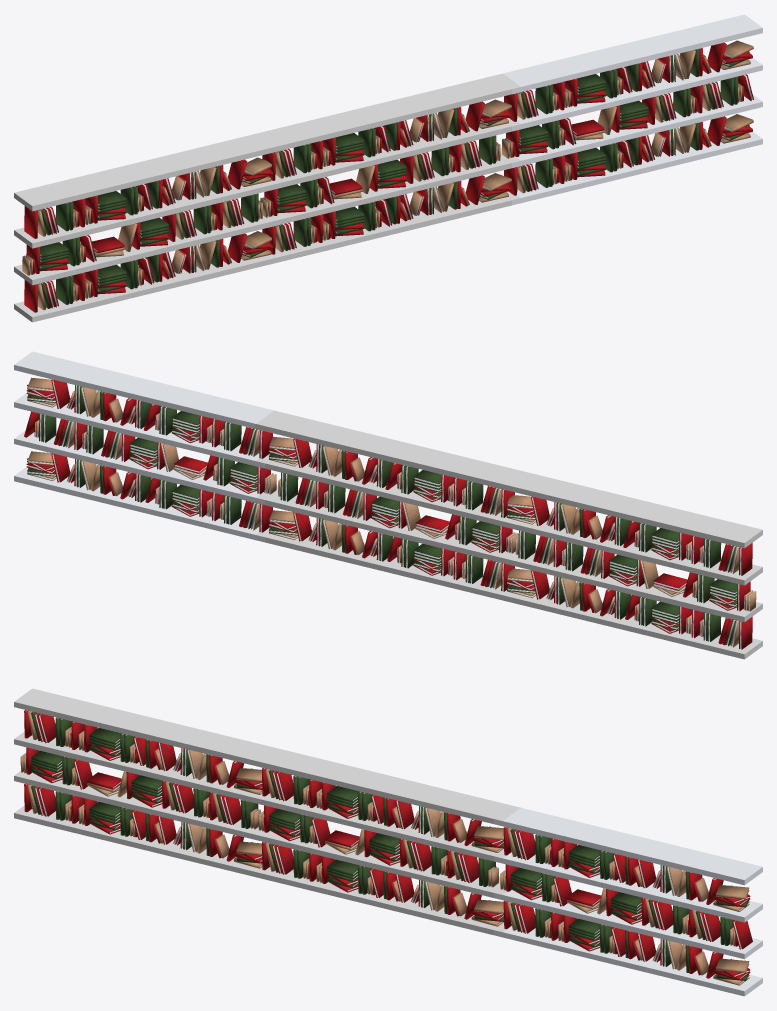
The model's file is EstanteriaBajaLargaSola.fbx.
3 renders of one model, top to bottom at view 1: azimuth 30°, elevation 25°; view 2: azimuth 150°, elevation 25°; view 3: azimuth 330°, elevation 25°, orthographic.
Parts seen in each view (by area): view 1: estanteriaBAJA.003, estanteriaBAJA.001, estanteriaBAJA.002; view 2: estanteriaBAJA.003, estanteriaBAJA.001, estanteriaBAJA.002; view 3: estanteriaBAJA.001, estanteriaBAJA.003, estanteriaBAJA.002.
Boxes of the visible parts, x1,y1,x2,y2 form: estanteriaBAJA.003: (14,131,282,322); estanteriaBAJA.001: (503,14,762,205); estanteriaBAJA.002: (265,73,520,264); estanteriaBAJA.003: (494,468,762,659); estanteriaBAJA.001: (14,351,273,542); estanteriaBAJA.002: (255,410,511,601); estanteriaBAJA.001: (493,807,762,996); estanteriaBAJA.003: (14,688,282,875); estanteriaBAJA.002: (251,750,520,934).
Size of the model in its own units: 1176 by 179 by 51.17.
